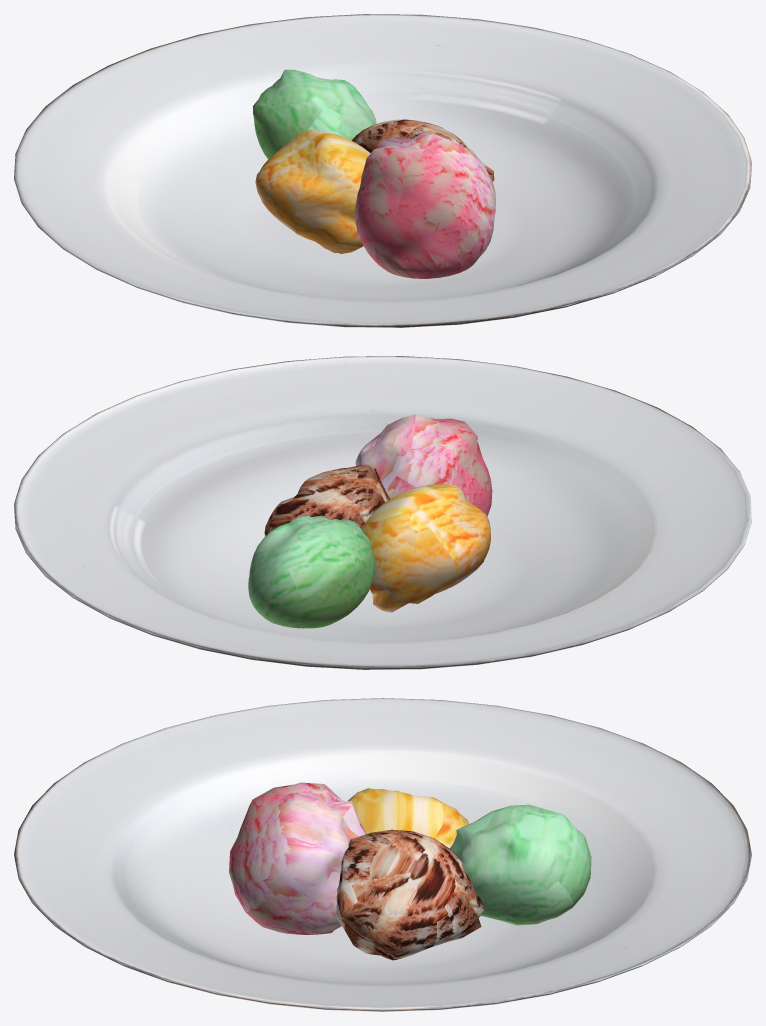
File: ijs.fbx
3 views of the same model, one above another, from view 1: azimuth 30°, elevation 25°; view 2: azimuth 150°, elevation 25°; view 3: azimuth 270°, elevation 25° (orthographic).
Visible parts, largest first — view 1: polySurface3; view 2: polySurface3; view 3: polySurface3.
Part boxes in pixels (x1=…): polySurface3: x1=14, y1=14, x2=751, y2=327; polySurface3: x1=14, y1=356, x2=751, y2=669; polySurface3: x1=14, y1=698, x2=751, y2=1011.
Size of the model in its own units: 20.01 by 4.25 by 20.01.
